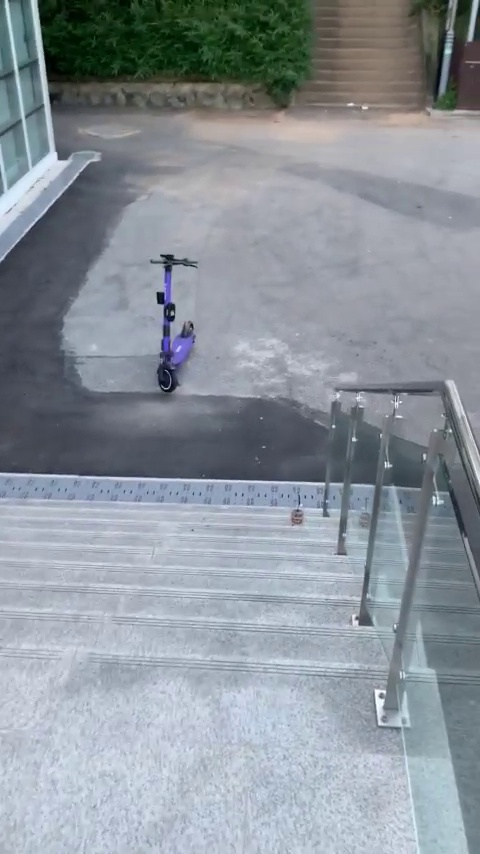beam: (135, 251, 215, 402)
